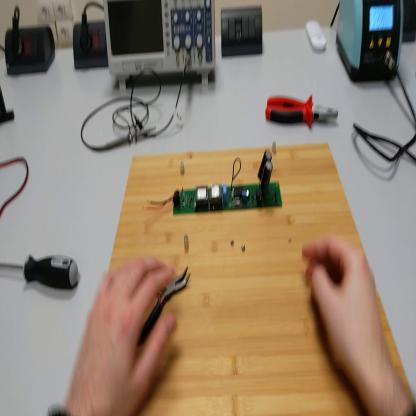hand: (66, 256, 181, 415), (304, 233, 388, 383)
high voltage board: (144, 154, 286, 214)
oscilloscope: (103, 2, 217, 94)
oscilloscope probe tip: (100, 127, 157, 152)
pliers: (134, 263, 191, 348), (265, 98, 343, 133)
screwdriver-: (2, 256, 82, 293)
socket: (6, 25, 58, 76), (74, 18, 110, 72), (404, 2, 416, 44)
welder station: (336, 1, 405, 84)
working area: (114, 146, 414, 416)
